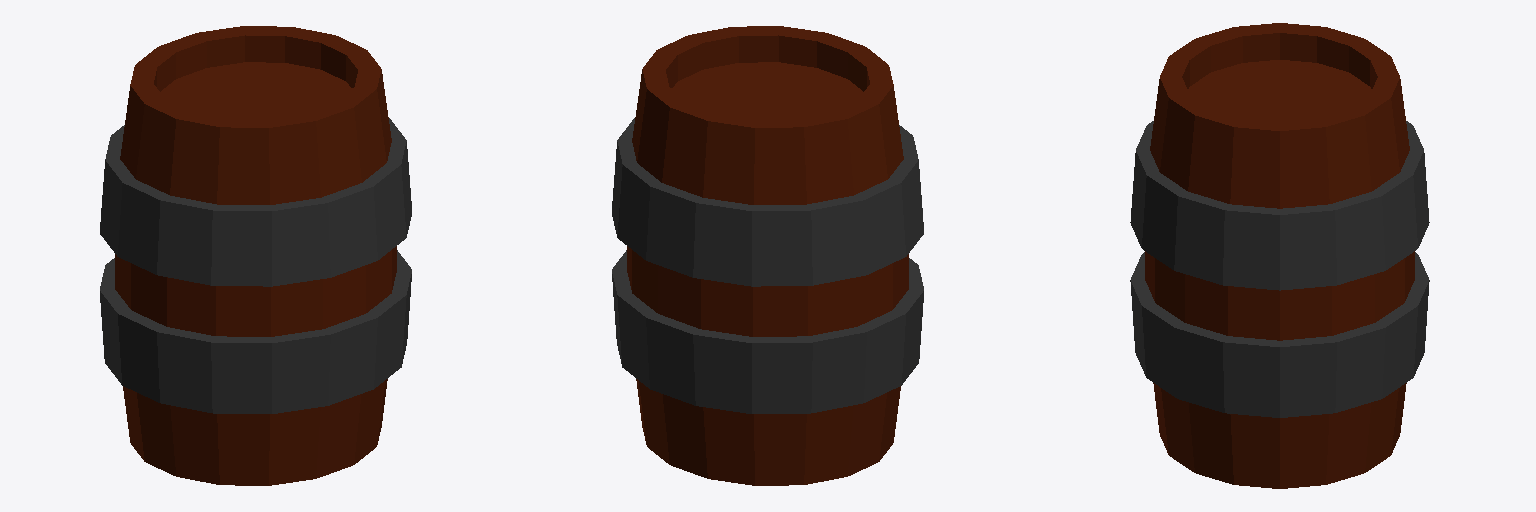
The model's file is barrel_big.obj.
The picture shows the model from 3 angles: view 1: azimuth 30°, elevation 25°; view 2: azimuth 150°, elevation 25°; view 3: azimuth 270°, elevation 25°; orthographic projection.
Visible parts, largest first — view 1: Cylinder.005; view 2: Cylinder.005; view 3: Cylinder.005.
Boxes of the visible parts, x1=… form: Cylinder.005: x1=100, y1=26, x2=411, y2=485; Cylinder.005: x1=612, y1=26, x2=923, y2=485; Cylinder.005: x1=1130, y1=23, x2=1429, y2=488.
Size of the model in its own units: 2.66 by 3.28 by 2.49.